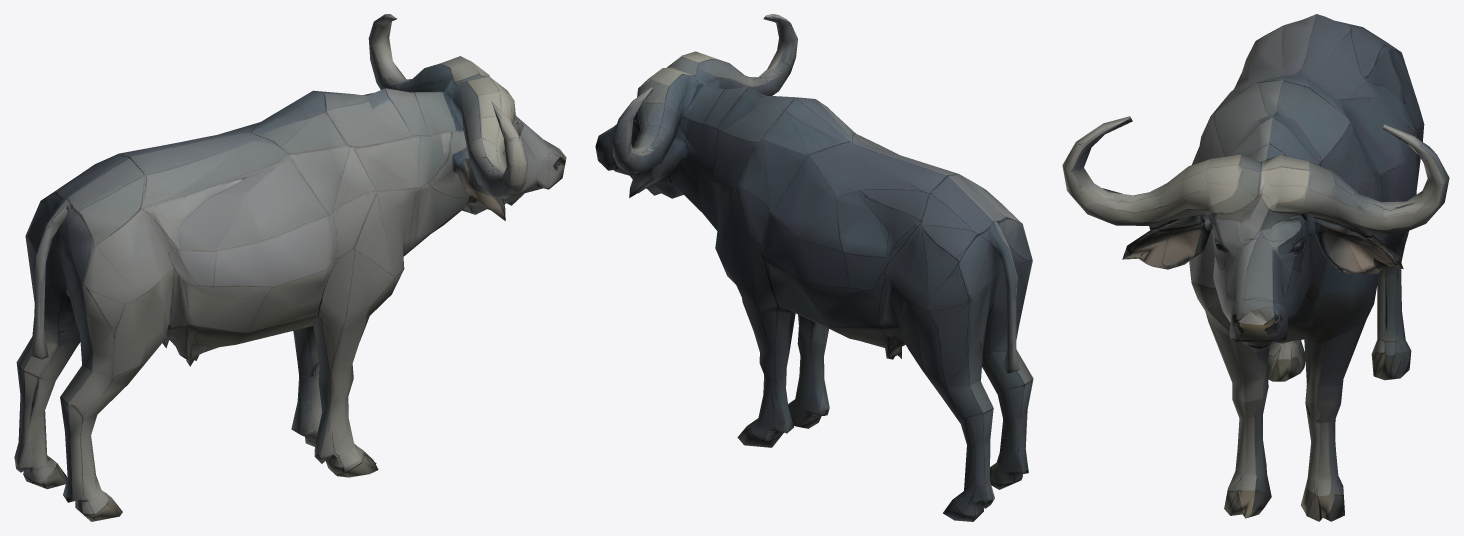
Rendered from Buffalol.glb.
3 views of the same model, side by side, from view 1: azimuth 30°, elevation 25°; view 2: azimuth 150°, elevation 25°; view 3: azimuth 270°, elevation 25° (orthographic). The views are drawn at different scales.
Parts seen in each view (by area): view 1: tripo_node_d4f9d7a8-c2dd-4296-8c2f-eb80aab6a5fc; view 2: tripo_node_d4f9d7a8-c2dd-4296-8c2f-eb80aab6a5fc; view 3: tripo_node_d4f9d7a8-c2dd-4296-8c2f-eb80aab6a5fc.
Boxes of the visible parts, left/top/right/bottom form: tripo_node_d4f9d7a8-c2dd-4296-8c2f-eb80aab6a5fc: left=14, top=14, right=566, bottom=521; tripo_node_d4f9d7a8-c2dd-4296-8c2f-eb80aab6a5fc: left=595, top=14, right=1033, bottom=521; tripo_node_d4f9d7a8-c2dd-4296-8c2f-eb80aab6a5fc: left=1062, top=14, right=1449, bottom=521.
Size of the model in its own units: 1 by 0.7432 by 0.5947.
1 material, 1 textured.
